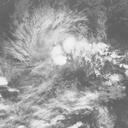cyclone: (22, 14, 86, 73)
